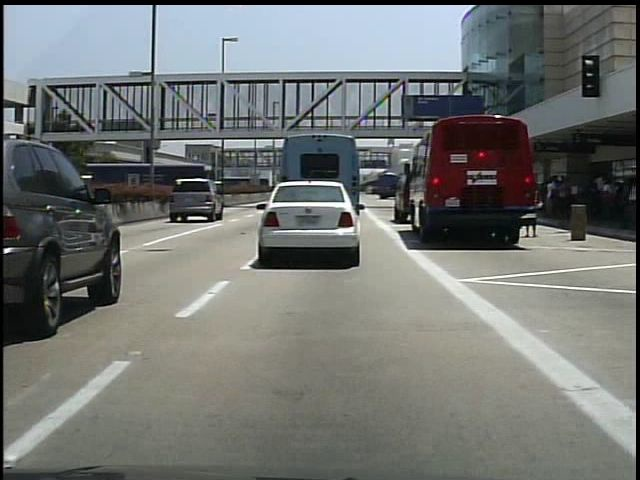person: (528, 189, 541, 239)
